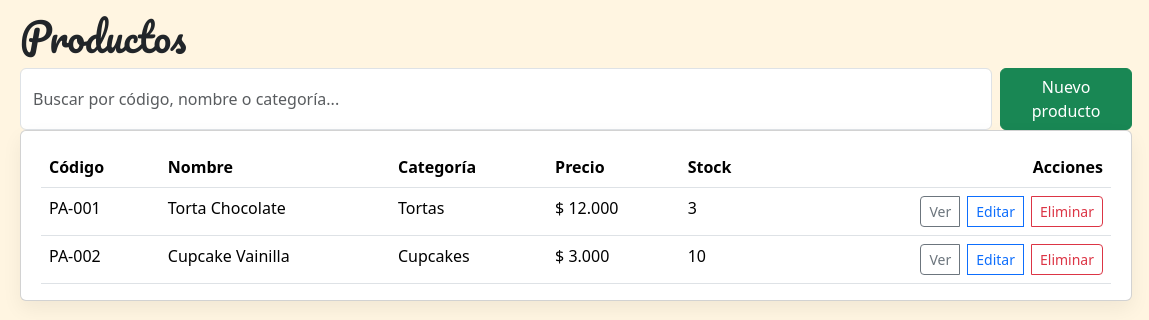
Scenario: Admin - Products › TAU-Admin 43: Filtra productos por búsqueda
The width and height of the screenshot is (1149, 320).
Expected: the text "Torta Chocolate" is shown, [160,188,390,236]
In the field with placeholder "Buscar por código, nombre o categoría...": (506, 99) [20,68,992,130], type "cupcake"
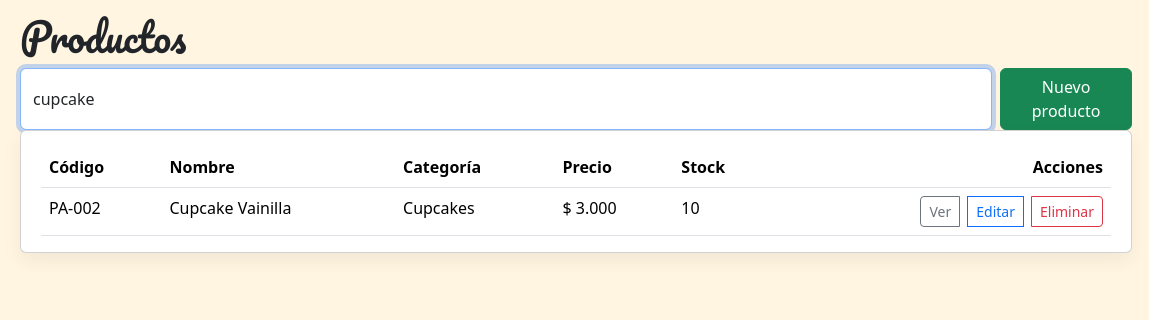
Expected: the text "Cupcake Vainilla" is shown, [162,188,395,236]
Now the text "Torta Chocolate" is gone
